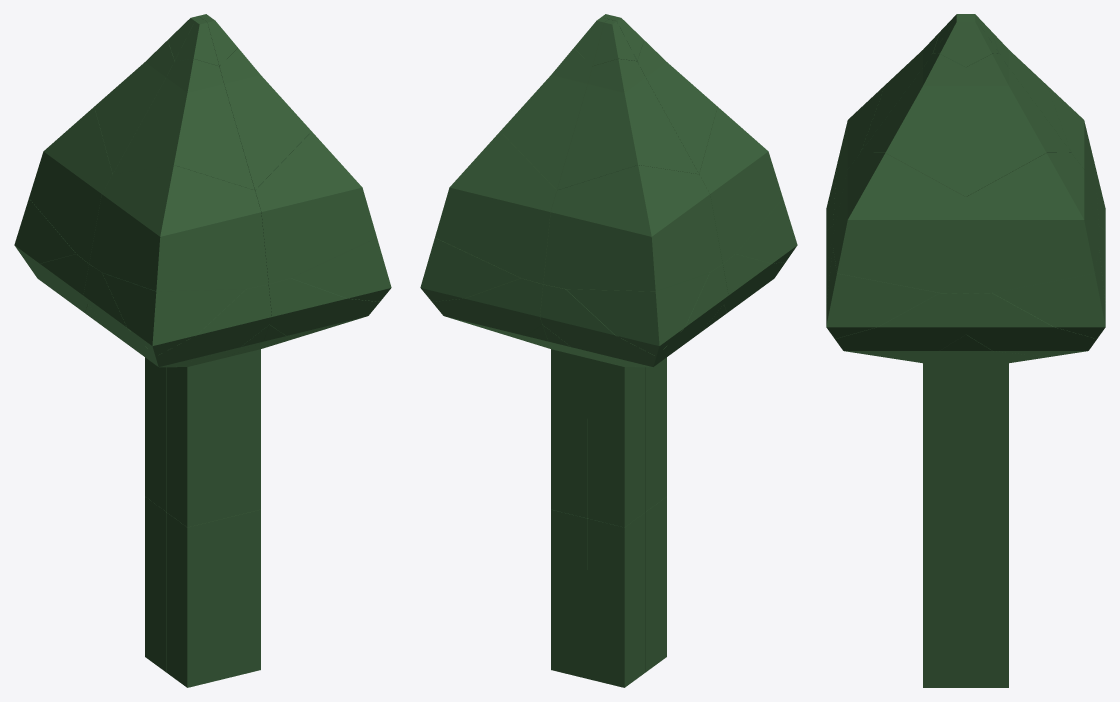
Rendered from tree_shattered.fbx.
The picture shows the model from 3 angles, left to right: view 1: azimuth 30°, elevation 25°; view 2: azimuth 150°, elevation 25°; view 3: azimuth 270°, elevation 25°; orthographic projection.
Visible parts, largest first — view 1: Cube.068_cell.019, Cube.068_cell.017, Cube.068_cell.023, Cube.068_cell.007, Cube.068_cell.006, Cube.068_cell.018, Cube.068_cell.003, Cube.068_cell.021, Cube.068_cell.011, Cube.068_cell.002, Cube.068_cell.015, Cube.068_cell.022 (+8 smaller); view 2: Cube.068_cell.018, Cube.068_cell.016, Cube.068_cell.022, Cube.068_cell.005, Cube.068_cell.004, Cube.068_cell.019, Cube.068_cell.001, Cube.068_cell.020, Cube.068_cell.010, Cube.068_cell, Cube.068_cell.014, Cube.068_cell.023 (+8 smaller); view 3: Cube.068_cell.016, Cube.068_cell.017, Cube.068_cell.021, Cube.068_cell.020, Cube.068_cell.001, Cube.068_cell.003, Cube.068_cell, Cube.068_cell.002, Cube.068_cell.009, Cube.068_cell.008, Cube.068_cell.013, Cube.068_cell.012 (+6 smaller).
Part boxes in pixels (box(x1,y1,x2,y2)): Cube.068_cell.019: box(89, 165, 268, 291); Cube.068_cell.017: box(255, 131, 376, 283); Cube.068_cell.023: box(113, 59, 254, 190); Cube.068_cell.007: box(88, 305, 268, 527); Cube.068_cell.006: box(166, 512, 224, 687); Cube.068_cell.018: box(29, 107, 112, 263); Cube.068_cell.003: box(224, 324, 313, 518); Cube.068_cell.021: box(219, 48, 311, 189); Cube.068_cell.011: box(83, 264, 271, 367); Cube.068_cell.002: box(224, 509, 260, 678); Cube.068_cell.015: box(102, 273, 245, 356); Cube.068_cell.022: box(94, 40, 174, 173); Cube.068_cell.018: box(543, 165, 722, 291); Cube.068_cell.016: box(435, 131, 556, 283); Cube.068_cell.022: box(557, 59, 698, 190); Cube.068_cell.005: box(543, 305, 723, 527); Cube.068_cell.004: box(587, 512, 645, 687); Cube.068_cell.019: box(699, 107, 782, 263); Cube.068_cell.001: box(498, 324, 587, 518); Cube.068_cell.020: box(500, 48, 592, 189); Cube.068_cell.010: box(540, 264, 728, 367); Cube.068_cell: box(551, 509, 587, 678); Cube.068_cell.014: box(566, 273, 709, 356); Cube.068_cell.023: box(637, 40, 717, 173); Cube.068_cell.016: box(966, 152, 1098, 293); Cube.068_cell.017: box(833, 152, 965, 293); Cube.068_cell.021: box(861, 53, 965, 196); Cube.068_cell.020: box(966, 53, 1070, 196); Cube.068_cell.001: box(966, 334, 1048, 525); Cube.068_cell.003: box(883, 334, 965, 525); Cube.068_cell: box(966, 525, 1008, 687); Cube.068_cell.002: box(923, 525, 965, 687); Cube.068_cell.009: box(826, 238, 965, 356); Cube.068_cell.008: box(966, 238, 1105, 356); Cube.068_cell.013: box(826, 248, 939, 338); Cube.068_cell.012: box(992, 248, 1105, 338).
Size of the model in its own units: 2.95 by 2.95 by 7.6.
